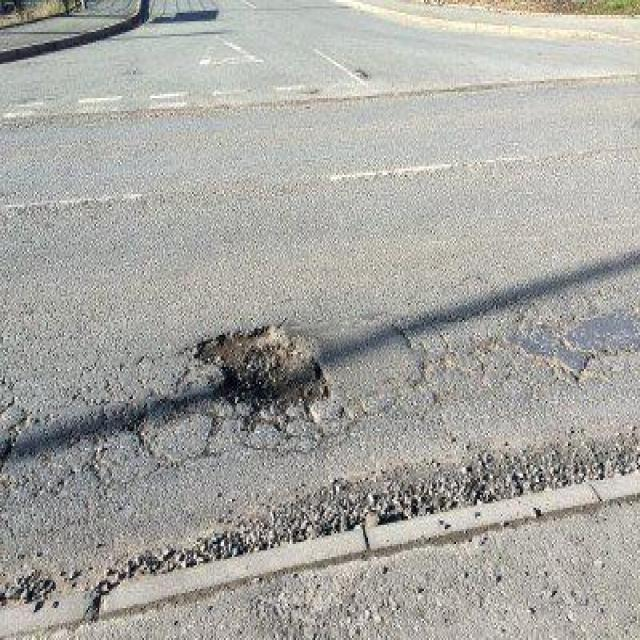pothole: (188, 320, 338, 427)
